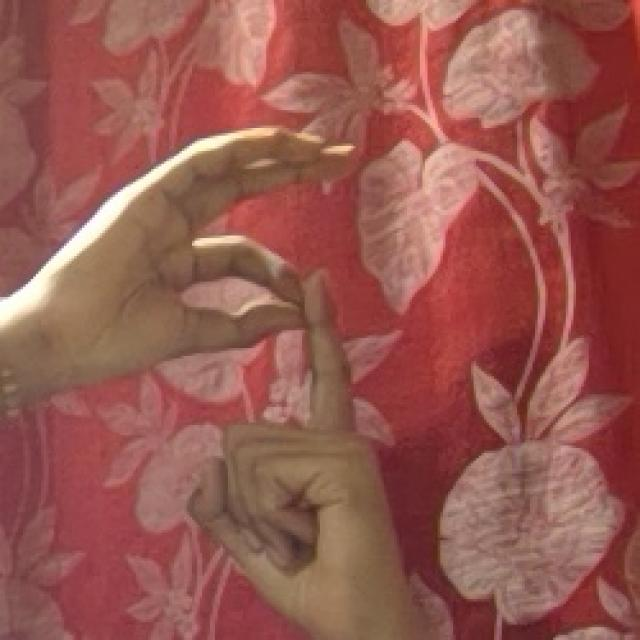Alphabet-P: (47, 61, 453, 640)
